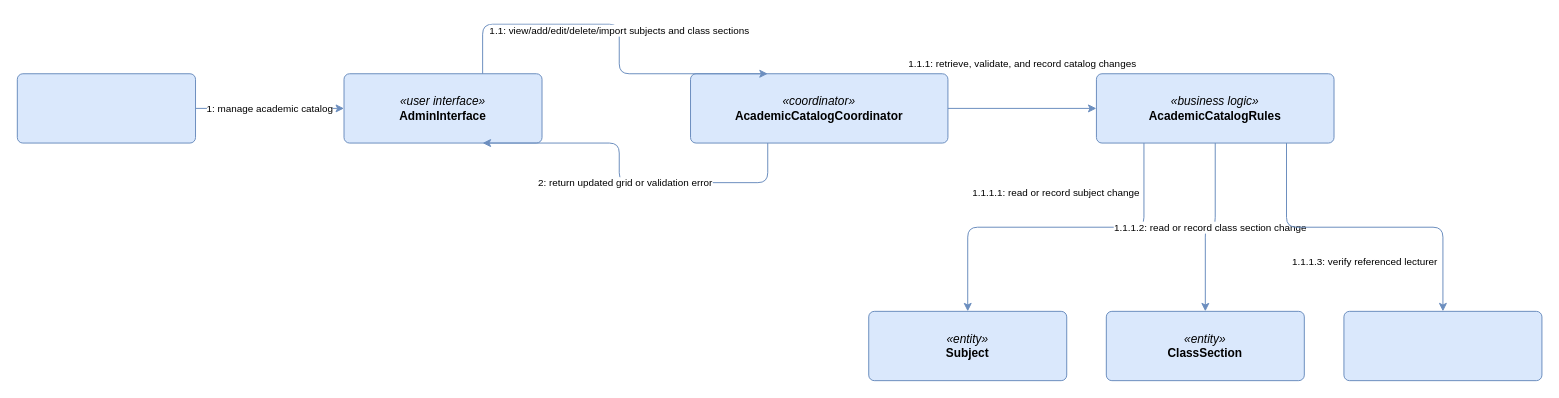
The diagram is 1559 pixels wide and 398 high, and some of its shapes have lost their labels. The shapes that lost their labels are listed below. From the top down, each one's box as (x1, y1, x2, y2) in pixels, then its label:
(16, 73, 196, 143): «external user» Admin
(1343, 310, 1542, 381): «entity» Lecturer
